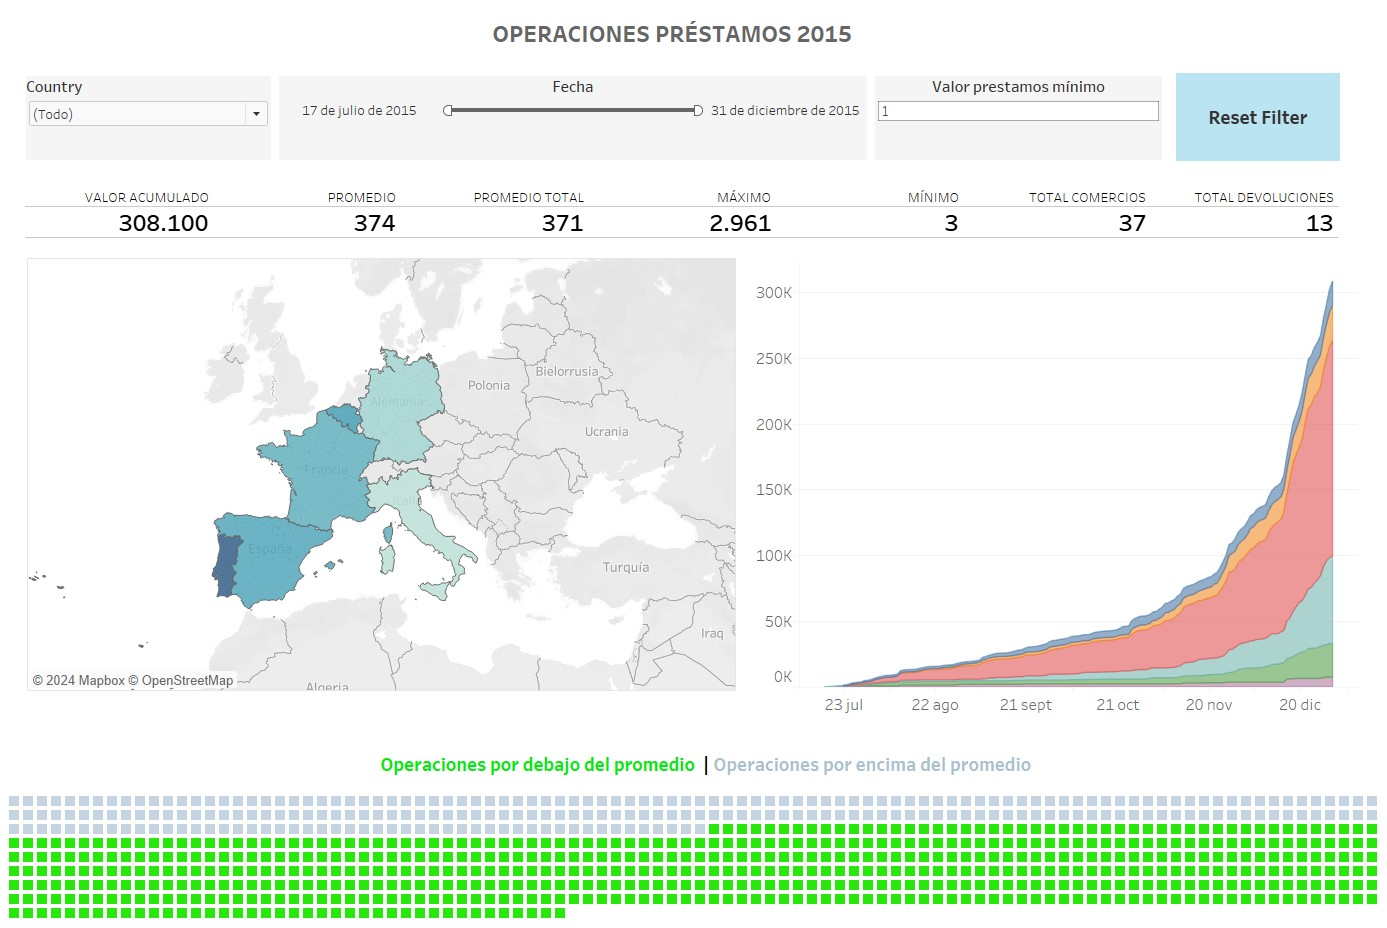

Layout of this report page (visuals, bound fields, positions):
{"tool":"tableau","page":{"name":"Dashboard 1","canvas":[1450,1000],"ordinal":0},"visuals":[{"type":"text","box":[504,42,404,65]},{"type":"filter","title":"Mapa","param":"[federated.165jlwq01z7vf71dgarbk1vjn3kl].[none:country:nk]","box":[37,114,253,92]},{"type":"filter","title":"Áreas","param":"[federated.165jlwq01z7vf71dgarbk1vjn3kl].[tdy:created_at:qk]","box":[290,114,596,92]},{"type":"parameter","param":"[Parameters].[Parámetro 1]","box":[886,114,295,92]},{"type":"worksheet","title":"Reset Filter","mark":"Text","box":[1191,115,164,88]},{"type":"worksheet","title":"KPIs","mark":"Automatic","box":[40,208,1314,117]},{"type":"worksheet","title":"Mapa","mark":"Automatic","box":[42,300,709,433]},{"type":"worksheet","title":"Áreas","mark":"Area","rows":["Calculation_606297152730083333"],"cols":["created_at"],"box":[734,303,639,456]},{"type":"text","box":[392,790,672,32]},{"type":"worksheet","title":"Desviación","mark":"Automatic","box":[18,832,1381,142]}]}

Visuals, with their boxes on the page's 1450x1000 design canvas (x1, y1, x2, y2). These are canvas units, not pixel positions in the 1387x928 screenshot, which may show the page scaled, cropped or inside an application window:
text: {"left": 504, "top": 42, "right": 908, "bottom": 107}
"Mapa" filter: {"left": 37, "top": 114, "right": 290, "bottom": 206}
"Áreas" filter: {"left": 290, "top": 114, "right": 886, "bottom": 206}
parameter: {"left": 886, "top": 114, "right": 1181, "bottom": 206}
"Reset Filter" worksheet (Text marks): {"left": 1191, "top": 115, "right": 1355, "bottom": 203}
"KPIs" worksheet: {"left": 40, "top": 208, "right": 1354, "bottom": 325}
"Mapa" worksheet: {"left": 42, "top": 300, "right": 751, "bottom": 733}
"Áreas" worksheet (Area marks): {"left": 734, "top": 303, "right": 1373, "bottom": 759}
text: {"left": 392, "top": 790, "right": 1064, "bottom": 822}
"Desviación" worksheet: {"left": 18, "top": 832, "right": 1399, "bottom": 974}
